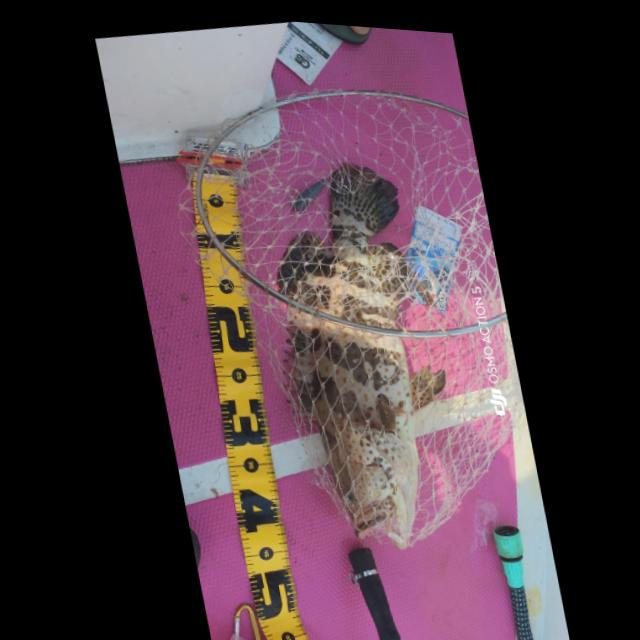Groupers: (241, 147, 476, 563)
